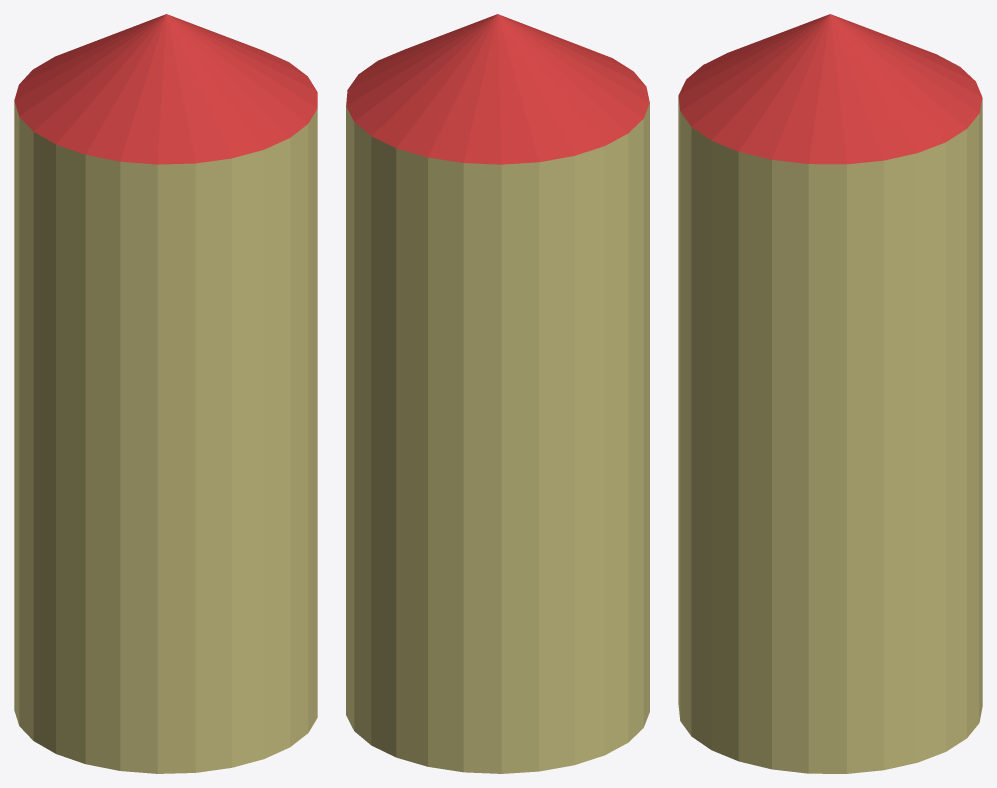
3 renders of one model, left to right at view 1: azimuth 30°, elevation 25°; view 2: azimuth 150°, elevation 25°; view 3: azimuth 270°, elevation 25°, orthographic.
Size of the model in its own units: 8.11 by 8.12 by 20.5.
